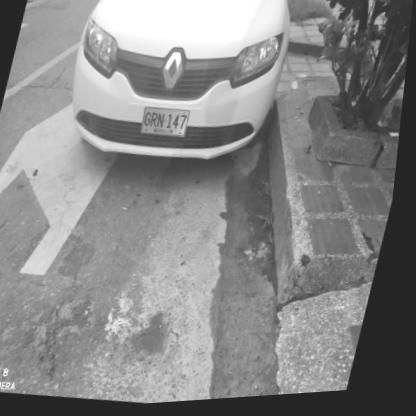placa: (134, 99, 202, 151)
